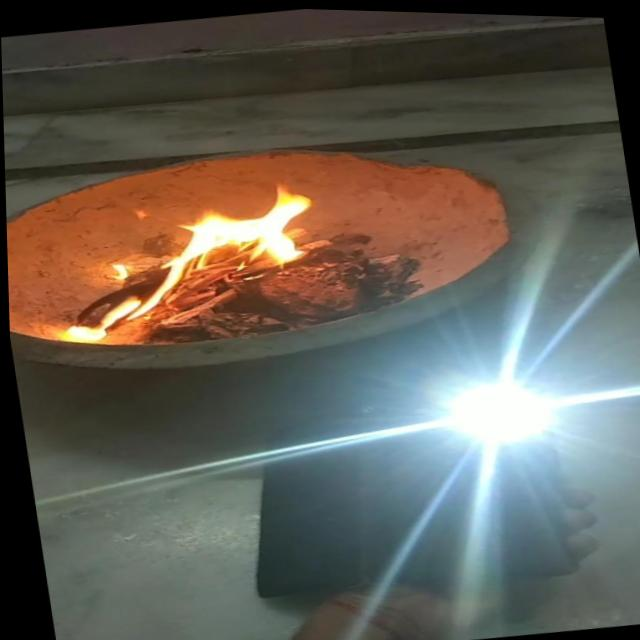fire: (142, 168, 336, 290), (46, 253, 163, 346)
